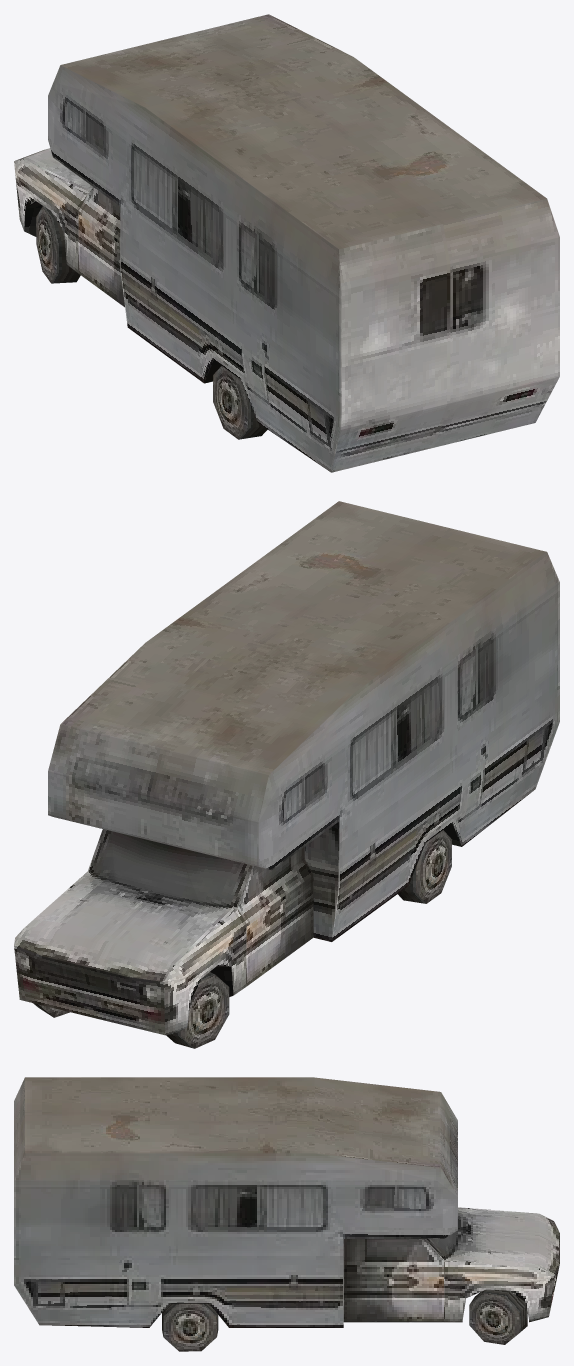
File: camper_ps1_spec.glb
3 views of the same model, one above another, from view 1: azimuth 30°, elevation 25°; view 2: azimuth 150°, elevation 25°; view 3: azimuth 270°, elevation 25° (orthographic). The views are drawn at different scales.
Parts seen in each view (by area): view 1: subframe.001; view 2: subframe.001; view 3: subframe.001.
Boxes of the visible parts, x1=… form: subframe.001: x1=14, y1=14, x2=559, y2=472; subframe.001: x1=14, y1=501, x2=559, y2=1048; subframe.001: x1=14, y1=1077, x2=559, y2=1351.
Bounding box in the file's own units: 3.8 × 4.44 × 10.96.
Materials: 1 (1 with a texture image).
